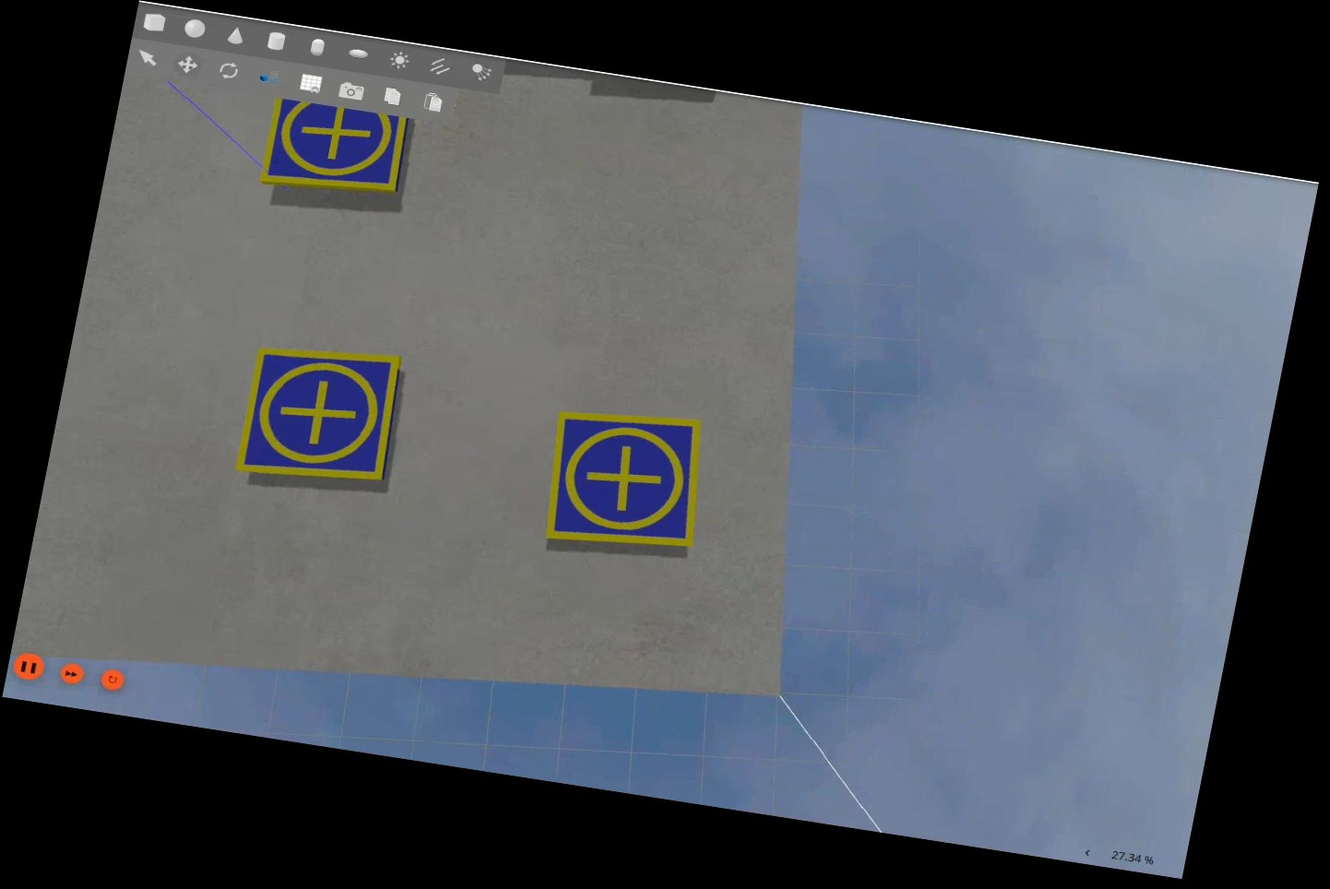small_base: (532, 397, 718, 566), (228, 334, 410, 498), (257, 91, 417, 206)
